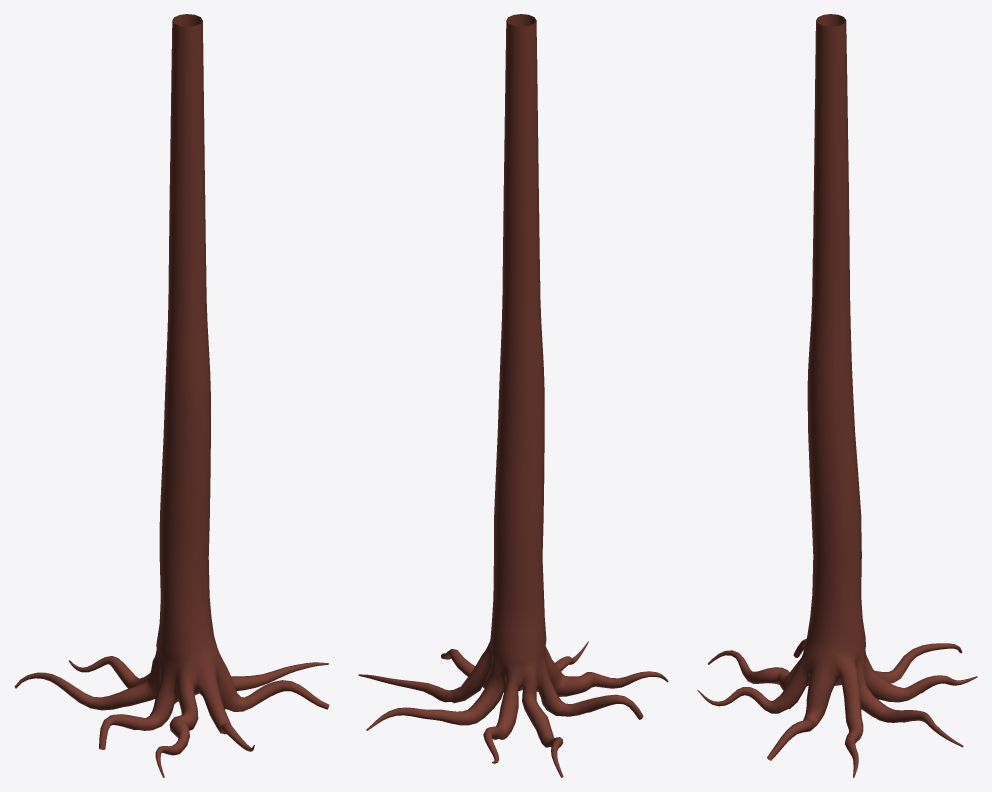
File: M_Tree_1.fbx
3 views of the same model, side by side, from view 1: azimuth 30°, elevation 25°; view 2: azimuth 150°, elevation 25°; view 3: azimuth 270°, elevation 25° (orthographic).
Parts seen in each view (by area): view 1: M_Tree_1; view 2: M_Tree_1; view 3: M_Tree_1.
Part boxes in pixels (x1,y1,x2,y2): M_Tree_1: (14,14,329,777); M_Tree_1: (358,14,668,777); M_Tree_1: (697,14,977,777).
Size of the model in its own units: 508 by 1300 by 478.
